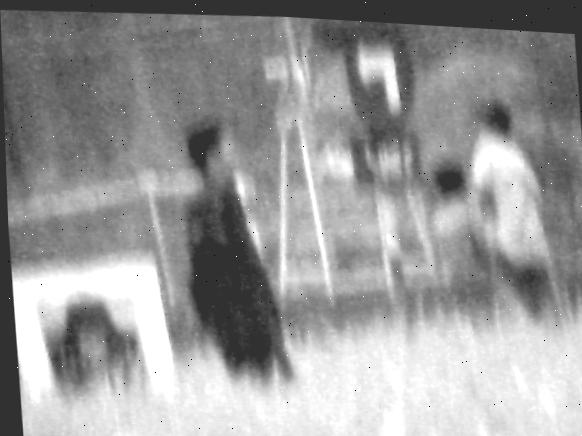bia: (35, 280, 153, 412)
